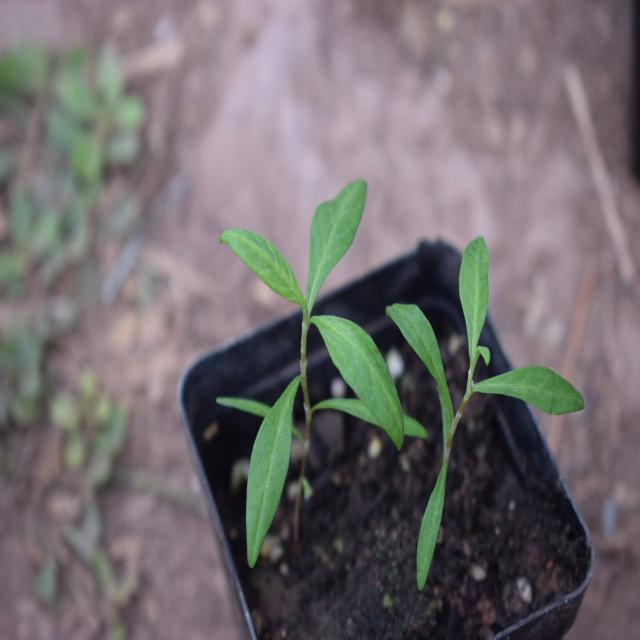white_smart_weed: (207, 168, 426, 594), (406, 194, 568, 559)
